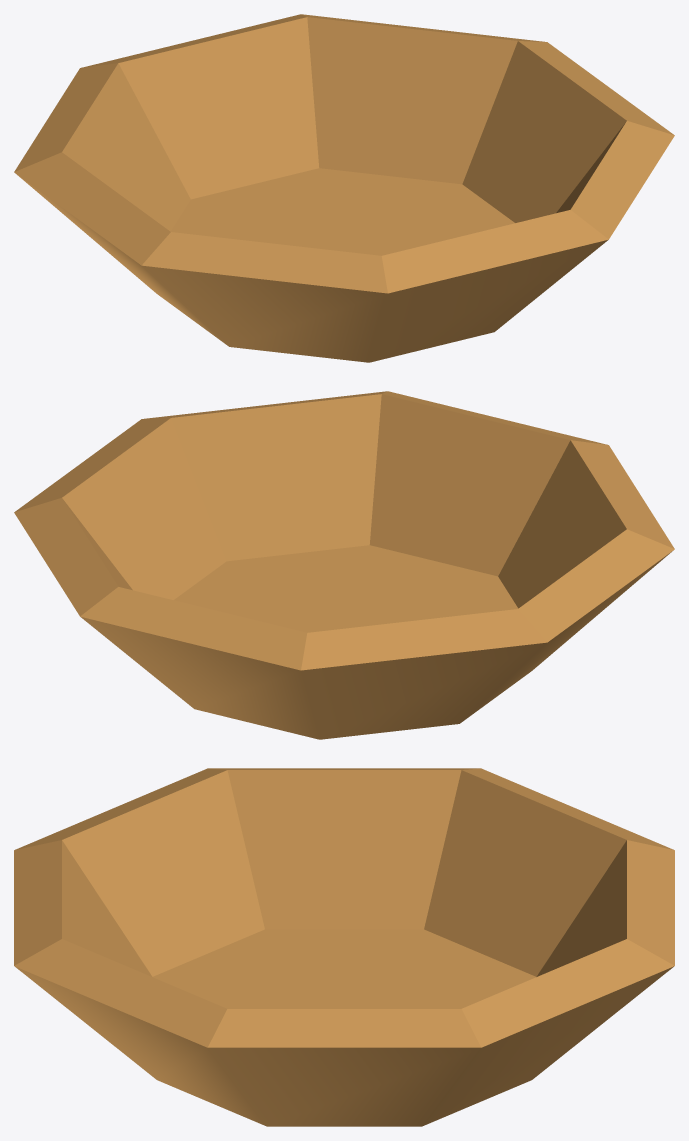
File: SM_Prop_Gold_Plate_03.fbx
3 renders of one model, top to bottom at view 1: azimuth 30°, elevation 25°; view 2: azimuth 150°, elevation 25°; view 3: azimuth 270°, elevation 25°, orthographic. The views are drawn at different scales.
Visible parts, largest first — view 1: SM_Prop_Gold_Plate_03; view 2: SM_Prop_Gold_Plate_03; view 3: SM_Prop_Gold_Plate_03.
Boxes of the visible parts, x1,y1,x2,y2 form: SM_Prop_Gold_Plate_03: (14, 14, 674, 362); SM_Prop_Gold_Plate_03: (14, 391, 674, 739); SM_Prop_Gold_Plate_03: (14, 768, 674, 1126).
Bounding box in the file's own units: 39.13 × 10.31 × 39.13.
